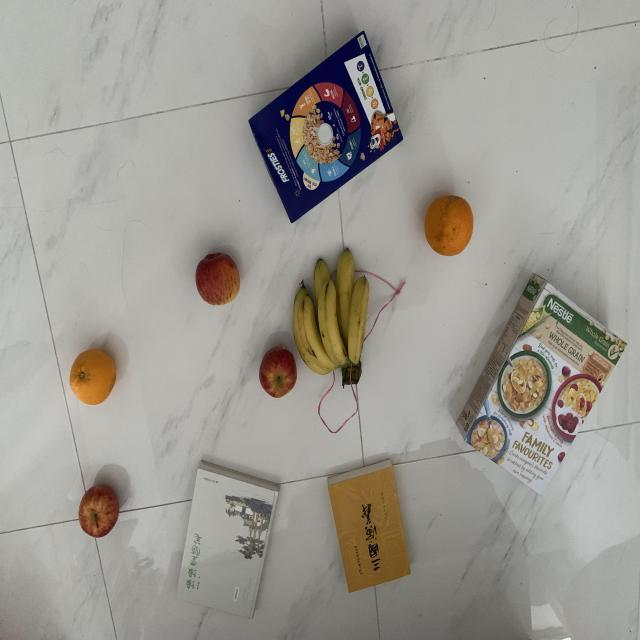Apple: (192, 249, 244, 310), (77, 483, 122, 541), (256, 344, 296, 402)
Banana: (290, 242, 370, 389)
Book: (171, 460, 280, 622), (326, 457, 415, 596)
Cerealbox: (452, 272, 628, 501), (243, 26, 420, 226)
Orange: (67, 345, 122, 409), (421, 195, 476, 259)
